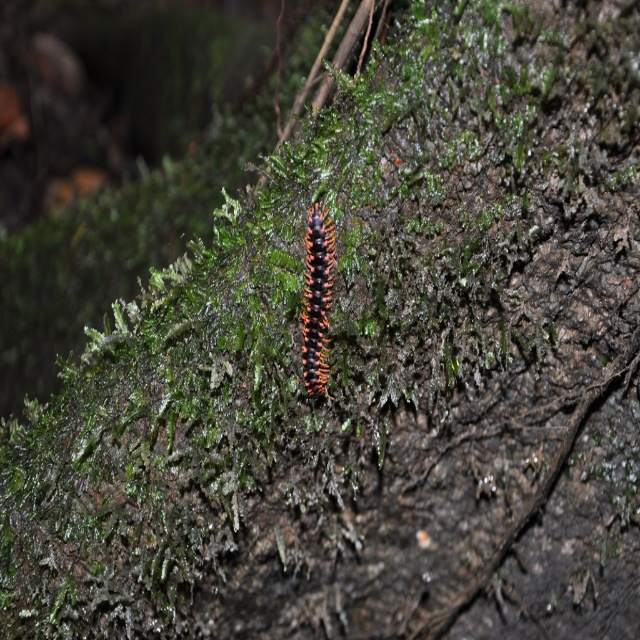Centipede: (295, 216, 342, 408)
